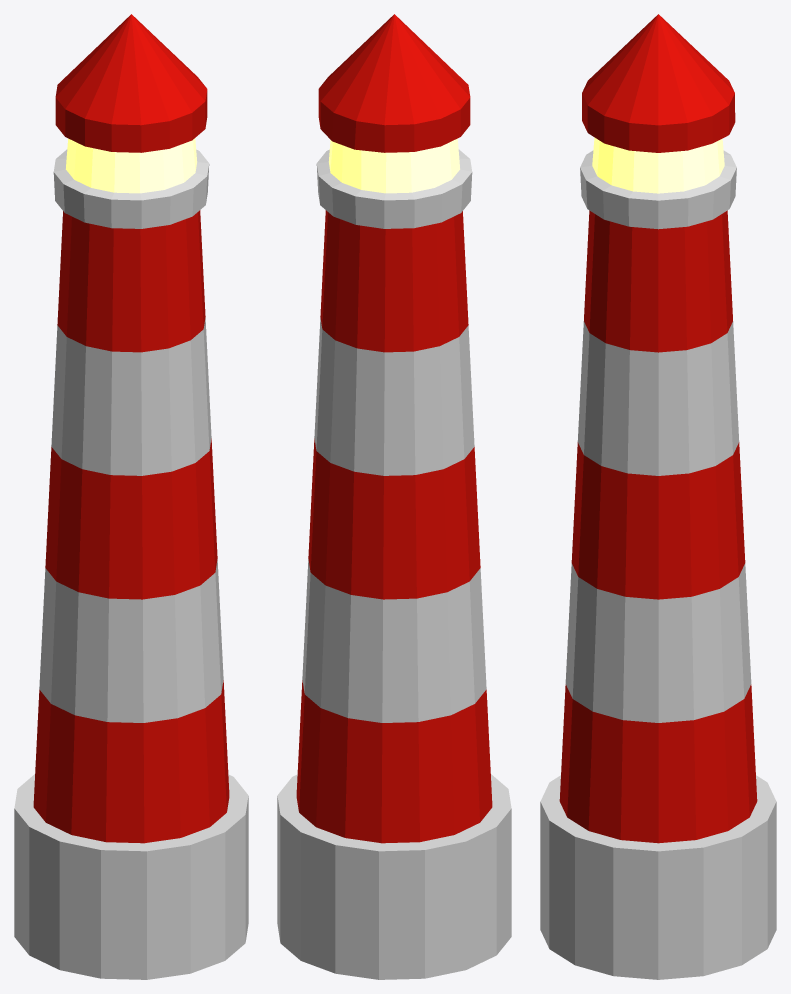
Rendered from lighthouse.glb.
The picture shows the model from 3 angles, left to right: view 1: azimuth 30°, elevation 25°; view 2: azimuth 150°, elevation 25°; view 3: azimuth 270°, elevation 25°; orthographic projection.
Parts seen in each view (by area): view 1: lighthouse; view 2: lighthouse; view 3: lighthouse.
Part boxes in pixels (box(x1,y1,x2,y2)): lighthouse: box(14, 14, 248, 979); lighthouse: box(277, 14, 511, 979); lighthouse: box(540, 14, 776, 979).
Size of the model in its own units: 2 by 8.56 by 2.
